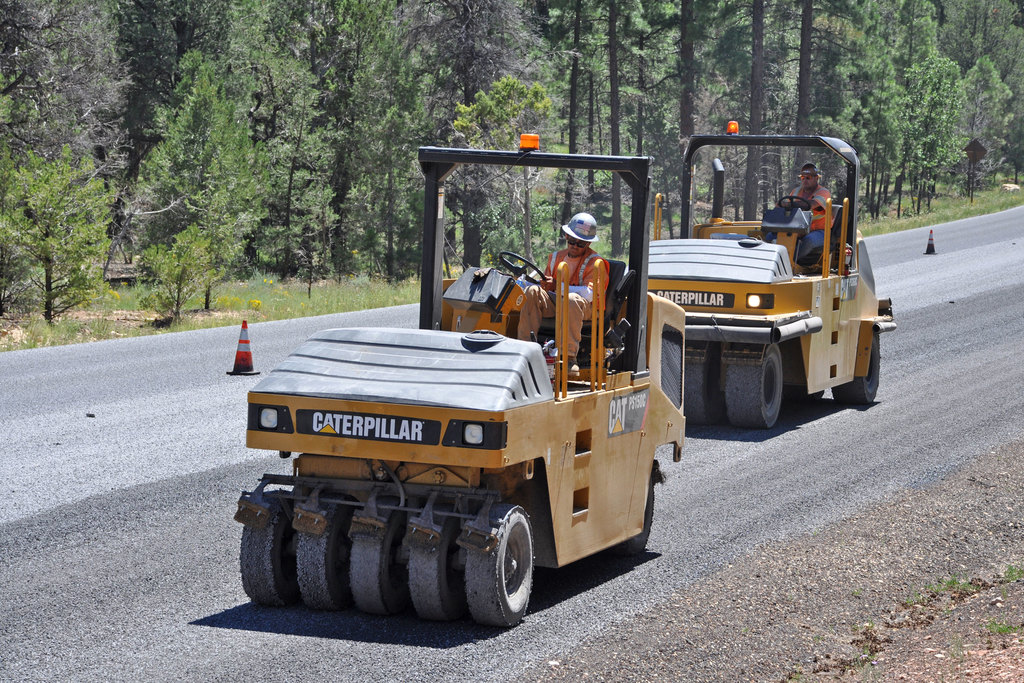Tree: (0, 0, 1024, 326)
